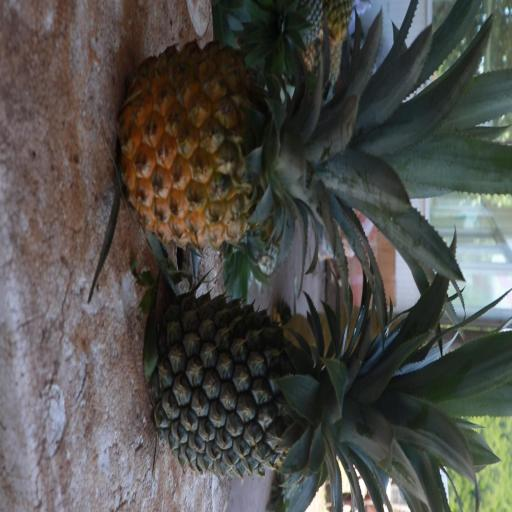Pineapple - v8 v1: (117, 49, 444, 246)
